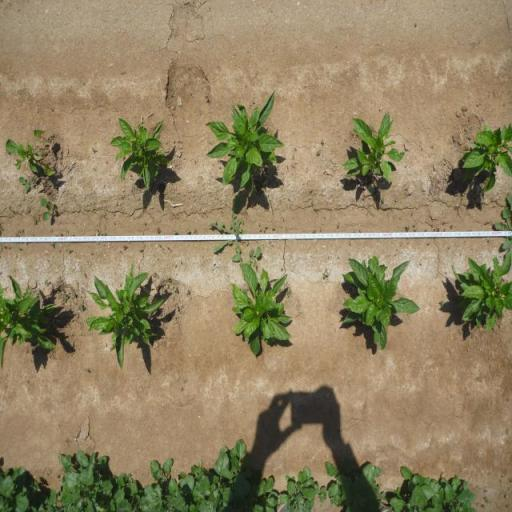plant: (200, 88, 288, 197), (84, 258, 163, 370), (340, 253, 421, 352), (230, 262, 289, 358), (0, 274, 57, 368), (107, 114, 173, 194), (338, 109, 406, 186), (456, 254, 512, 334), (454, 119, 512, 194), (3, 129, 58, 176)
weed: (111, 436, 253, 512), (255, 457, 386, 512), (0, 448, 110, 512), (385, 464, 477, 512), (208, 212, 248, 263), (493, 192, 512, 256), (40, 197, 56, 222), (17, 175, 35, 194), (246, 246, 263, 266), (483, 495, 493, 505), (322, 268, 330, 280), (15, 228, 24, 238), (62, 293, 68, 303), (286, 288, 292, 298), (204, 94, 210, 104), (258, 228, 268, 234), (172, 286, 179, 294), (315, 149, 321, 157), (451, 263, 456, 272), (156, 226, 162, 233), (50, 242, 56, 248), (70, 291, 76, 297), (78, 304, 84, 310), (122, 244, 128, 250), (185, 228, 191, 234), (166, 276, 172, 282), (240, 239, 246, 245), (439, 300, 445, 306), (59, 287, 66, 292), (85, 367, 90, 374), (405, 224, 410, 231), (204, 226, 208, 234), (381, 196, 385, 204), (482, 502, 486, 510), (67, 248, 72, 254), (44, 279, 50, 284), (187, 289, 191, 296), (320, 138, 324, 145), (33, 218, 37, 224), (101, 232, 107, 236), (173, 229, 177, 235), (194, 229, 198, 235), (280, 266, 284, 272), (336, 222, 340, 228), (162, 287, 166, 292), (139, 247, 143, 252), (91, 147, 95, 152), (246, 240, 249, 246), (312, 229, 316, 233), (272, 225, 275, 230)
